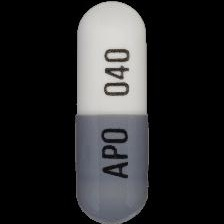60505-0040: (0, 0, 224, 224)
